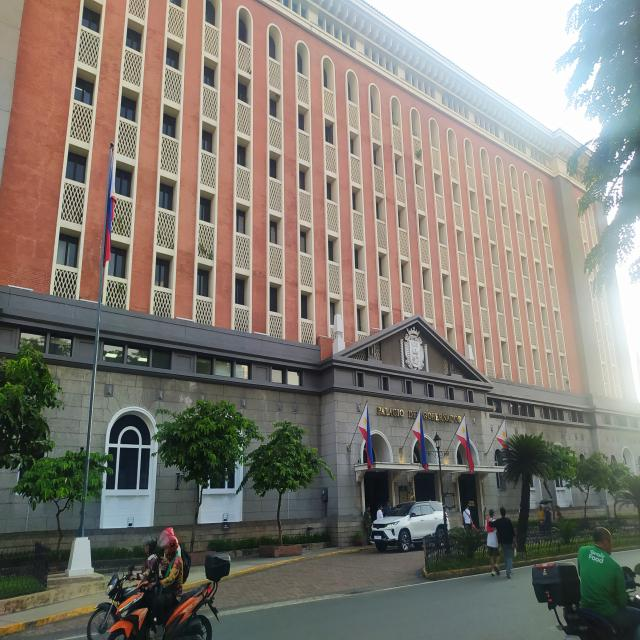Palacio de Gobernador: (0, 0, 640, 636)
